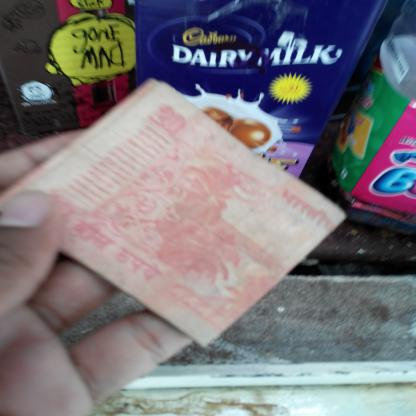Old20Back: (0, 76, 346, 347)
